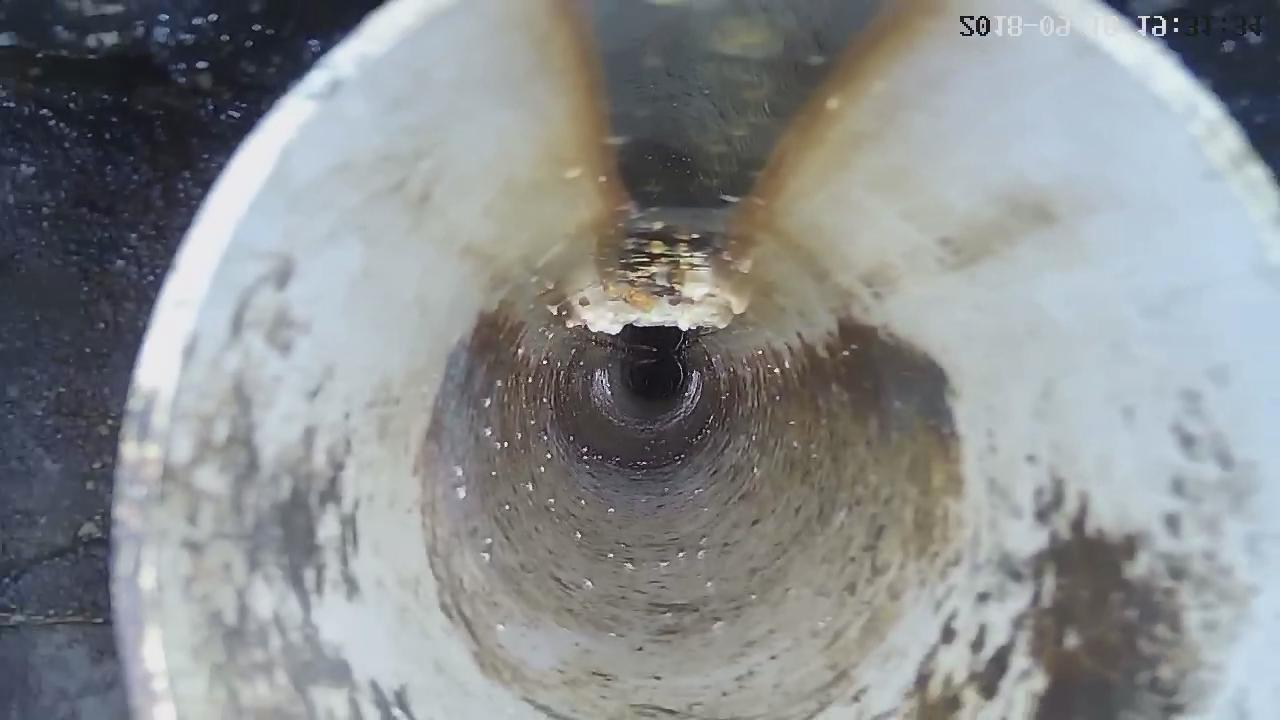ZAW: (563, 268, 748, 334)
